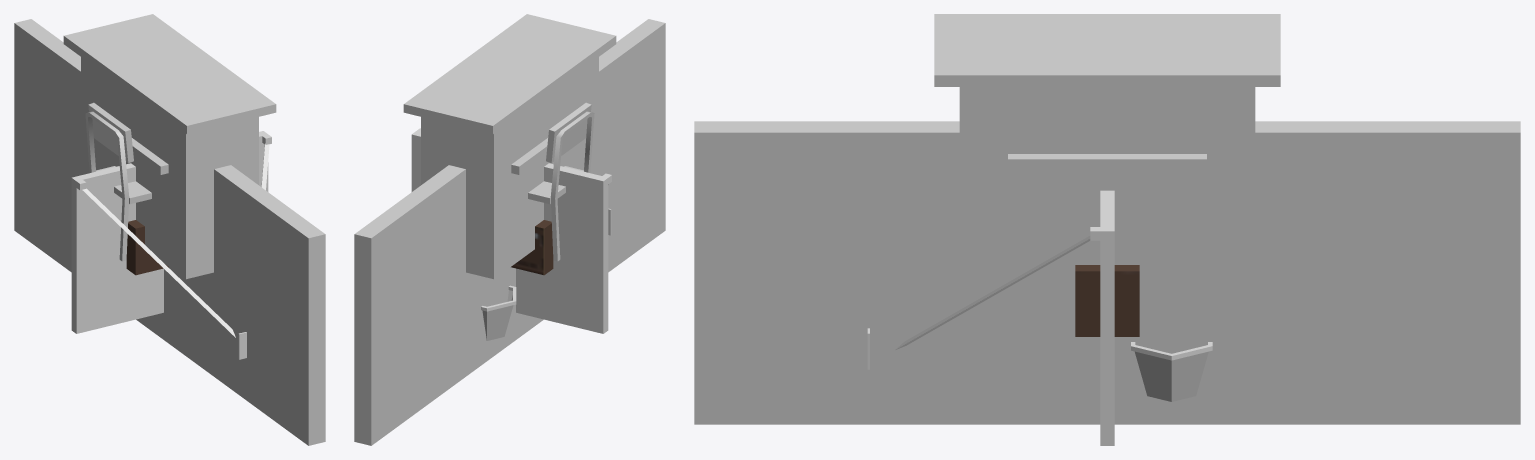
Rendered from ClassProps.fbx.
The picture shows the model from 3 angles, left to right: view 1: azimuth 30°, elevation 25°; view 2: azimuth 150°, elevation 25°; view 3: azimuth 270°, elevation 25°; orthographic projection. The views are drawn at different scales.
Parts seen in each view (by area): view 1: Desk & Floore, TeacherTable, BasketballHoop, Chair, StillageShoes, Locker, Table; view 2: Desk & Floore, TeacherTable, BasketballHoop, Chair, StillageShoes, Locker, Table; view 3: Desk & Floore, TeacherTable, BasketballHoop, Table, Locker.
Boxes of the visible parts, bbox=[...] form: Desk & Floore: bbox=[14, 19, 325, 445]; TeacherTable: bbox=[63, 14, 276, 279]; BasketballHoop: bbox=[71, 131, 271, 359]; Chair: bbox=[85, 102, 151, 261]; StillageShoes: bbox=[81, 105, 231, 278]; Locker: bbox=[126, 220, 168, 275]; Table: bbox=[132, 138, 168, 184]; Desk & Floore: bbox=[354, 19, 665, 445]; TeacherTable: bbox=[403, 14, 616, 279]; BasketballHoop: bbox=[411, 128, 611, 340]; Chair: bbox=[528, 102, 594, 261]; StillageShoes: bbox=[448, 132, 598, 278]; Locker: bbox=[511, 220, 553, 275]; Table: bbox=[511, 138, 547, 184]; Desk & Floore: bbox=[694, 121, 1520, 424]; TeacherTable: bbox=[934, 14, 1280, 297]; BasketballHoop: bbox=[867, 190, 1212, 445]; Table: bbox=[1008, 154, 1206, 187]; Locker: bbox=[1075, 265, 1139, 336].
Bounding box in the file's own units: 163 × 216 × 433.
